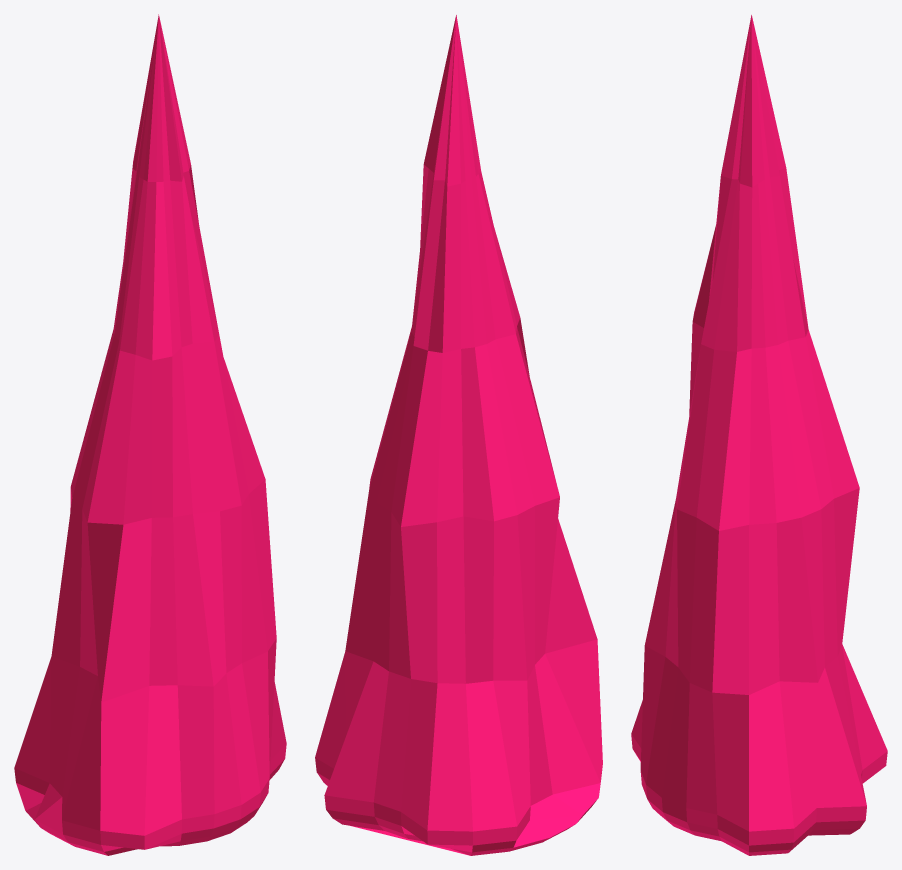
File: Spike2.fbx
3 renders of one model, left to right at view 1: azimuth 30°, elevation 25°; view 2: azimuth 150°, elevation 25°; view 3: azimuth 270°, elevation 25°, orthographic.
Visible parts, largest first — view 1: pCone3; view 2: pCone3; view 3: pCone3.
Part boxes in pixels (x1,y1,x2,y2): pCone3: [14, 14, 286, 855]; pCone3: [315, 15, 602, 855]; pCone3: [631, 15, 887, 855].
Size of the model in its own units: 50.94 by 153 by 45.09.
